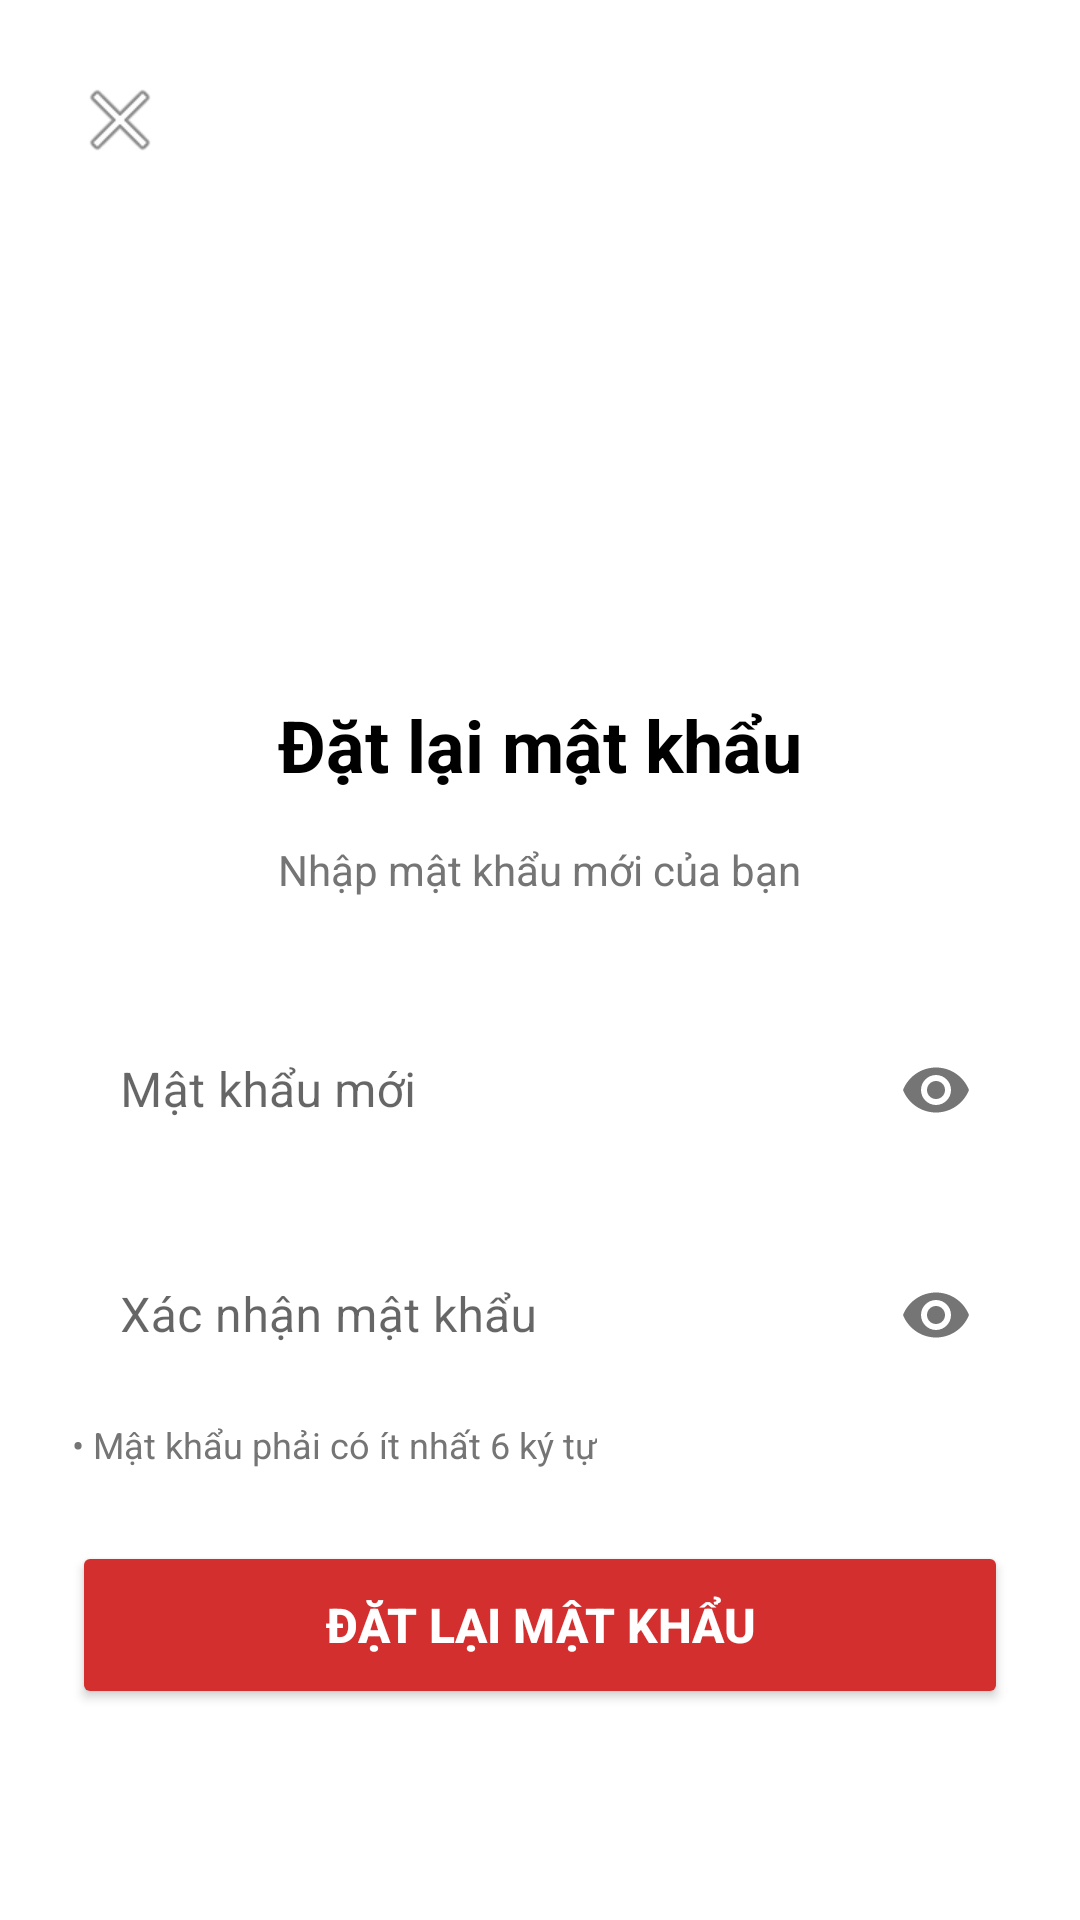

Where icons sit on this 1080 x 1920 app screen, as box=[x1, y1, x2, y2]:
Back: box=[90, 90, 150, 150]
